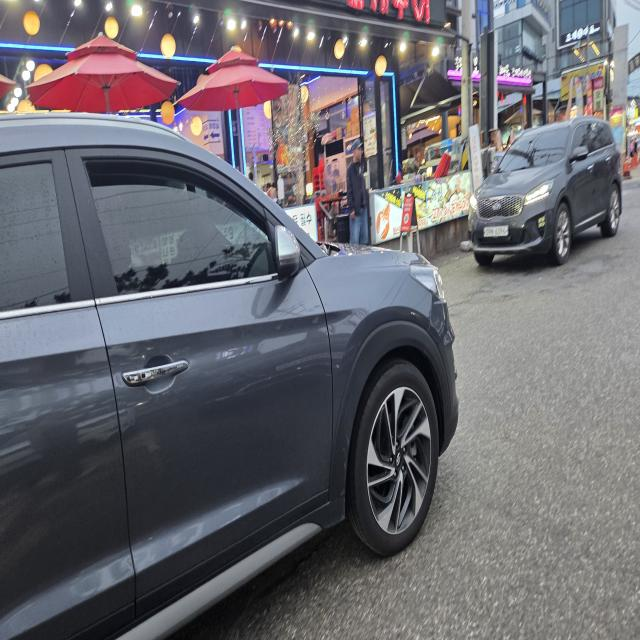car: (0, 70, 476, 640), (442, 100, 638, 282)
